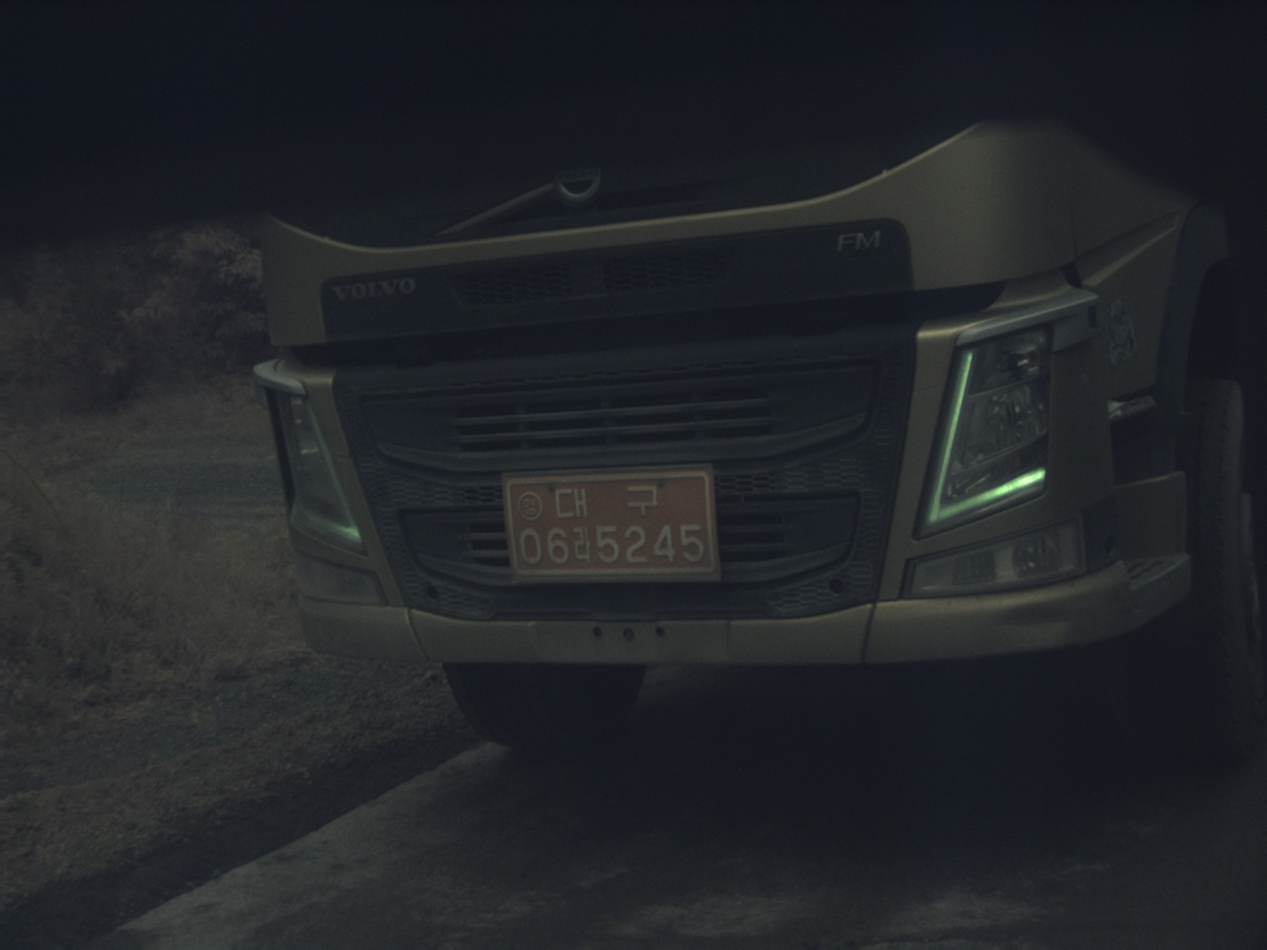license_plate: (505, 468, 720, 581)
truck: (257, 122, 1262, 761)
